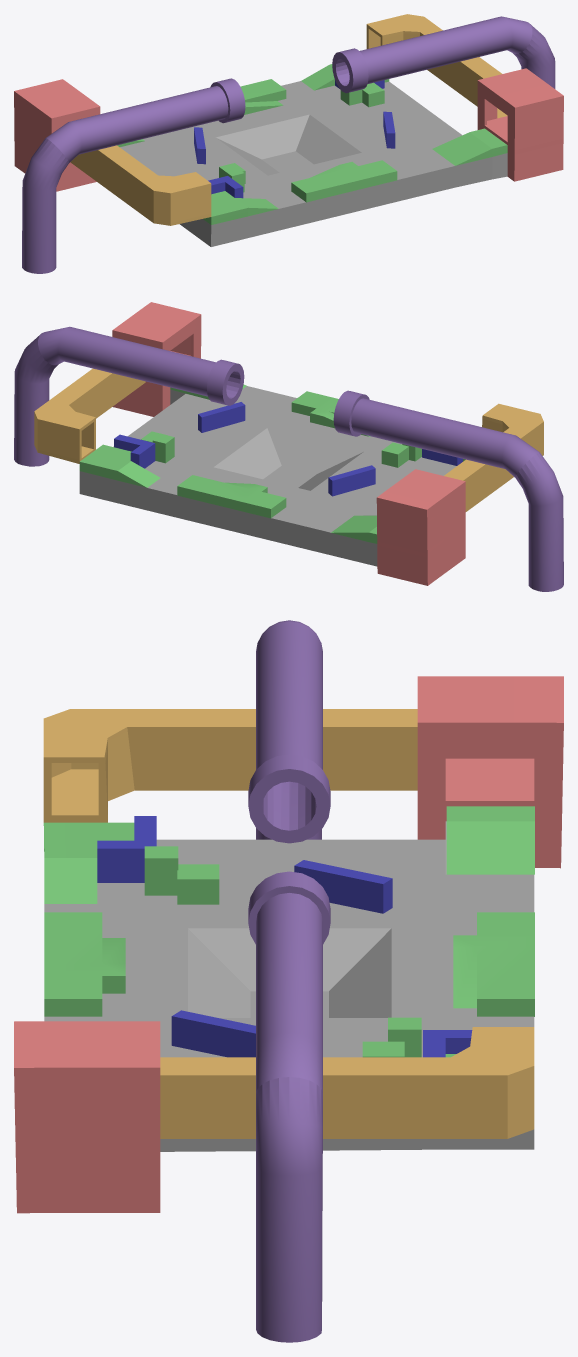
File: Level_base_prototype_1.1.fbx
The picture shows the model from 3 angles, top to bottom: view 1: azimuth 30°, elevation 25°; view 2: azimuth 150°, elevation 25°; view 3: azimuth 270°, elevation 25°; orthographic projection. The views are drawn at different scales.
Parts seen in each view (by area): view 1: level_base_1, Pipe_L, Pipe_R, pCube6, pCube5, L_barrier1, pCube4, barrier2, barrier1; view 2: level_base_1, Pipe_L, Pipe_R, pCube5, pCube6, barrier1, barrier2, L_barrier2, pCube1, pCube3; view 3: level_base_1, Pipe_R, Pipe_L, pCube5, pCube6, barrier2, barrier1, L_barrier1, pCube1, pCube2, L_barrier2, pCube3.
Boxes of the visible parts, x1,y1,x2,y2 form: level_base_1: (14, 14, 563, 246); Pipe_L: (22, 78, 245, 273); Pipe_R: (332, 16, 555, 93); pCube6: (291, 160, 397, 202); pCube5: (240, 79, 286, 114); L_barrier1: (208, 176, 243, 198); pCube4: (362, 82, 384, 107); barrier2: (383, 111, 395, 148); barrier1: (194, 127, 205, 164); level_base_1: (34, 302, 543, 585); Pipe_L: (333, 390, 563, 591); Pipe_R: (14, 326, 244, 466); pCube5: (177, 475, 286, 518); pCube6: (291, 391, 370, 436); barrier1: (328, 465, 375, 496); barrier2: (198, 402, 245, 432); L_barrier2: (114, 434, 155, 468); pCube1: (381, 442, 408, 467); pCube3: (152, 434, 174, 463); level_base_1: (14, 676, 563, 1213); Pipe_R: (248, 871, 330, 1342); Pipe_L: (248, 620, 330, 843); pCube5: (453, 912, 534, 1016); pCube6: (44, 912, 125, 1016); barrier2: (171, 1010, 255, 1057); barrier1: (294, 860, 392, 913); L_barrier1: (97, 816, 156, 882); pCube1: (177, 864, 219, 904); pCube2: (144, 846, 178, 895); L_barrier2: (423, 1030, 472, 1057); pCube3: (388, 1017, 421, 1057).
Size of the model in its own units: 2139 by 539 by 987.
